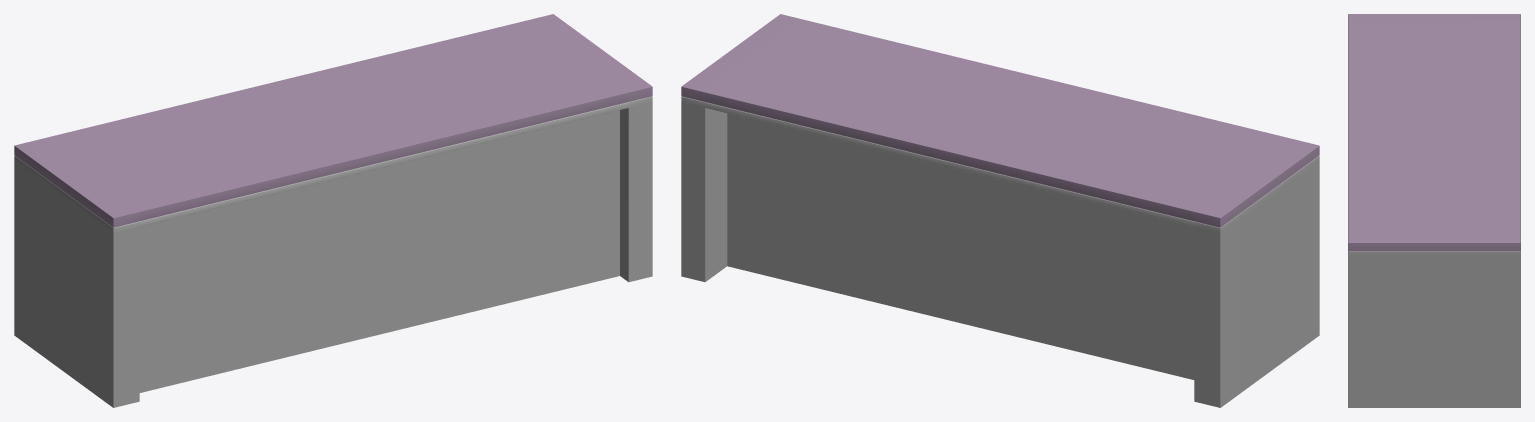
Rendered from BarCounter.fbx.
3 renders of one model, left to right at view 1: azimuth 30°, elevation 25°; view 2: azimuth 150°, elevation 25°; view 3: azimuth 270°, elevation 25°, orthographic. The views are drawn at different scales.
Visible parts, largest first — view 1: pCube34; view 2: pCube34; view 3: pCube34.
Part boxes in pixels (box(x1,y1,x2,y2)): pCube34: box(14, 14, 652, 407); pCube34: box(681, 14, 1319, 407); pCube34: box(1348, 14, 1520, 407).
Bounding box in the file's own units: 2.34 × 0.7888 × 0.7473.
